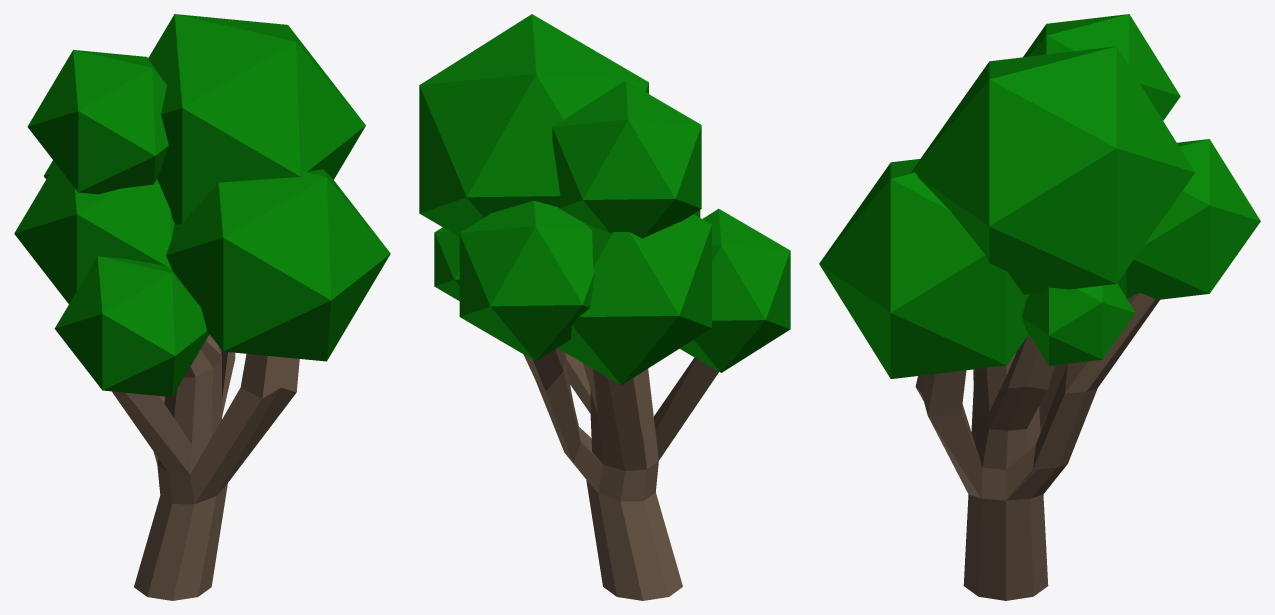
File: Tree.fbx
3 renders of one model, left to right at view 1: azimuth 30°, elevation 25°; view 2: azimuth 150°, elevation 25°; view 3: azimuth 270°, elevation 25°, orthographic. The views are drawn at different scales.
Visible parts, largest first — view 1: pPlatonic1, pPlatonic4, pCylinder1, pPlatonic7, pPlatonic2, pPlatonic6; view 2: pPlatonic4, pCylinder1, pPlatonic2, pPlatonic6, pPlatonic3, pPlatonic7, pPlatonic5; view 3: pPlatonic4, pCylinder1, pPlatonic1, pPlatonic3, pPlatonic5, pPlatonic2.
Part boxes in pixels (x1=…): pPlatonic1: x1=166, y1=169, x2=390, y2=361; pPlatonic4: x1=148, y1=14, x2=365, y2=224; pCylinder1: x1=112, y1=334, x2=299, y2=600; pPlatonic7: x1=54, y1=256, x2=209, y2=396; pPlatonic2: x1=27, y1=50, x2=168, y2=194; pPlatonic6: x1=14, y1=164, x2=174, y2=303; pPlatonic4: x1=419, y1=14, x2=648, y2=236; pCylinder1: x1=523, y1=348, x2=718, y2=600; pPlatonic2: x1=552, y1=80, x2=701, y2=238; pPlatonic6: x1=557, y1=214, x2=711, y2=385; pPlatonic3: x1=459, y1=200, x2=594, y2=361; pPlatonic7: x1=679, y1=208, x2=790, y2=372; pPlatonic5: x1=434, y1=227, x2=459, y2=300; pPlatonic4: x1=911, y1=46, x2=1195, y2=294; pCylinder1: x1=915, y1=292, x2=1159, y2=600; pPlatonic1: x1=819, y1=159, x2=1030, y2=378; pPlatonic3: x1=1117, y1=139, x2=1260, y2=300; pPlatonic5: x1=1022, y1=283, x2=1135, y2=365; pPlatonic2: x1=1023, y1=14, x2=1180, y2=120.
Size of the model in its own units: 2.33 by 3.81 by 2.7.
